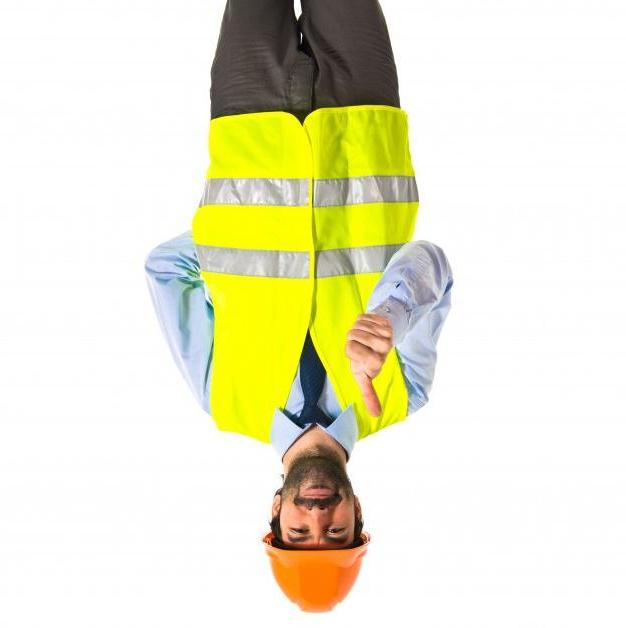thumbsdown: (344, 315, 394, 417)
